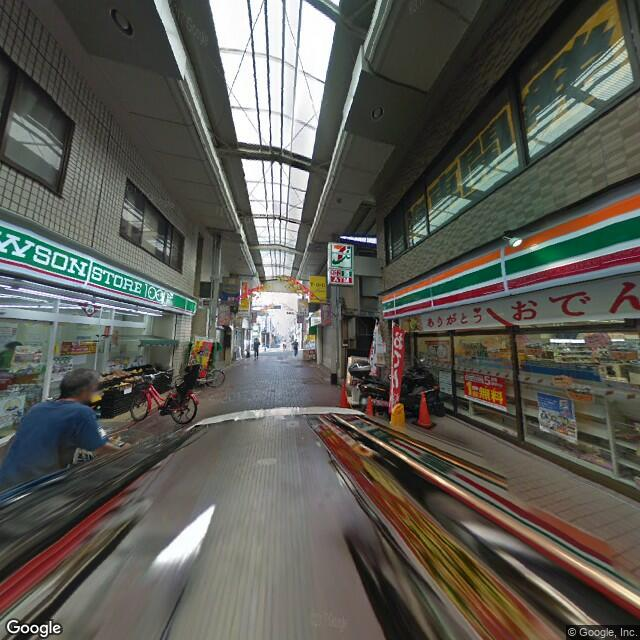7-eleven: (382, 186, 637, 326), (328, 238, 355, 275)
lawson: (1, 222, 194, 321)
